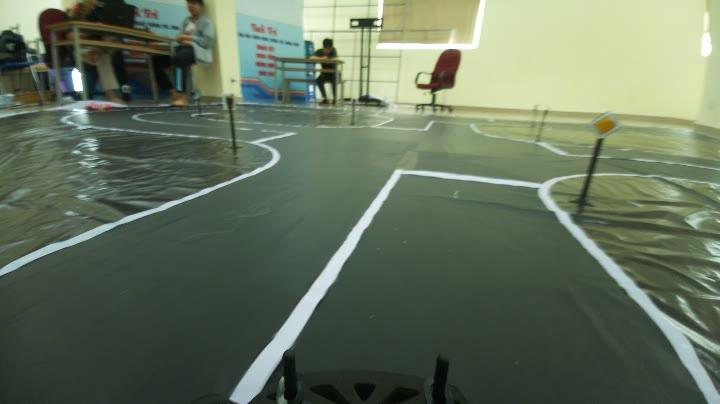priority: (584, 108, 622, 140)
